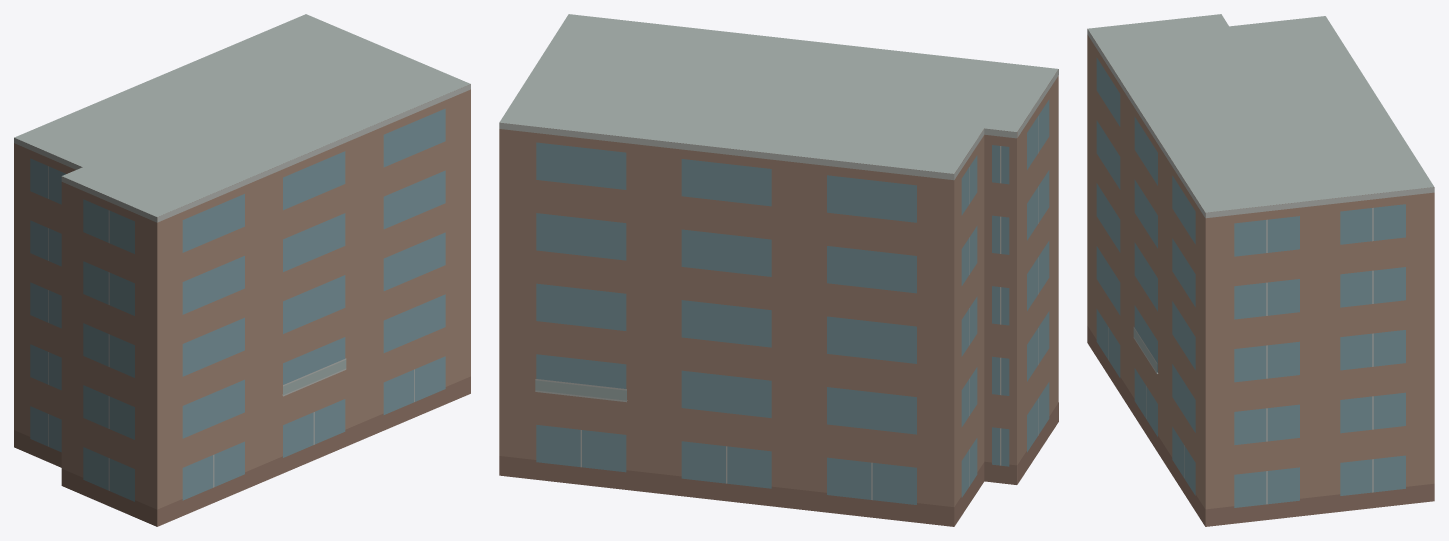
The model's file is survey-upis-33035555.glb.
The picture shows the model from 3 angles, left to right: view 1: azimuth 30°, elevation 25°; view 2: azimuth 150°, elevation 25°; view 3: azimuth 270°, elevation 25°; orthographic projection. The views are drawn at different scales.
Visible parts, largest first — view 1: survey-upis-33035555.tmp; view 2: survey-upis-33035555.tmp; view 3: survey-upis-33035555.tmp.
Boxes of the visible parts, left/top/right/bottom form: survey-upis-33035555.tmp: left=14, top=14, right=470, bottom=526; survey-upis-33035555.tmp: left=499, top=14, right=1058, bottom=526; survey-upis-33035555.tmp: left=1087, top=14, right=1434, bottom=526.
Bounding box in the file's own units: 18.66 × 13.75 × 13.78.
